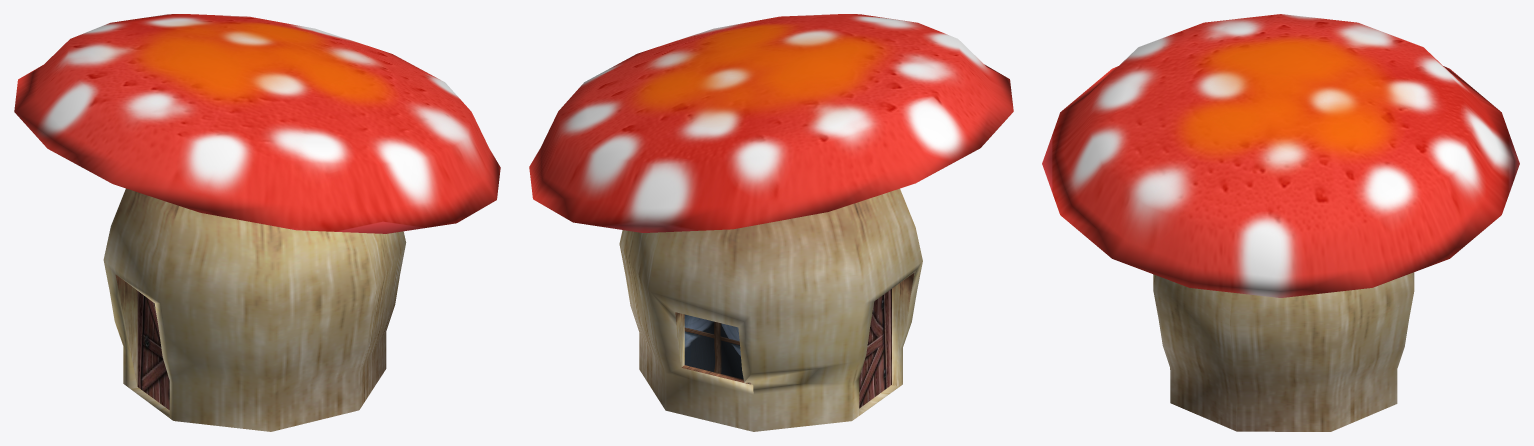
File: mushroom_house.fbx
The picture shows the model from 3 angles, left to right: view 1: azimuth 30°, elevation 25°; view 2: azimuth 150°, elevation 25°; view 3: azimuth 270°, elevation 25°; orthographic projection. The views are drawn at different scales.
Parts seen in each view (by area): view 1: U3DMesh; view 2: U3DMesh; view 3: U3DMesh.
Part boxes in pixels (left/top/right/bottom): U3DMesh: left=14, top=14, right=500, bottom=431; U3DMesh: left=529, top=14, right=1013, bottom=431; U3DMesh: left=1042, top=14, right=1519, bottom=431.
Size of the model in its own units: 64.18 by 47.81 by 68.14.
4 materials, 4 textured.
